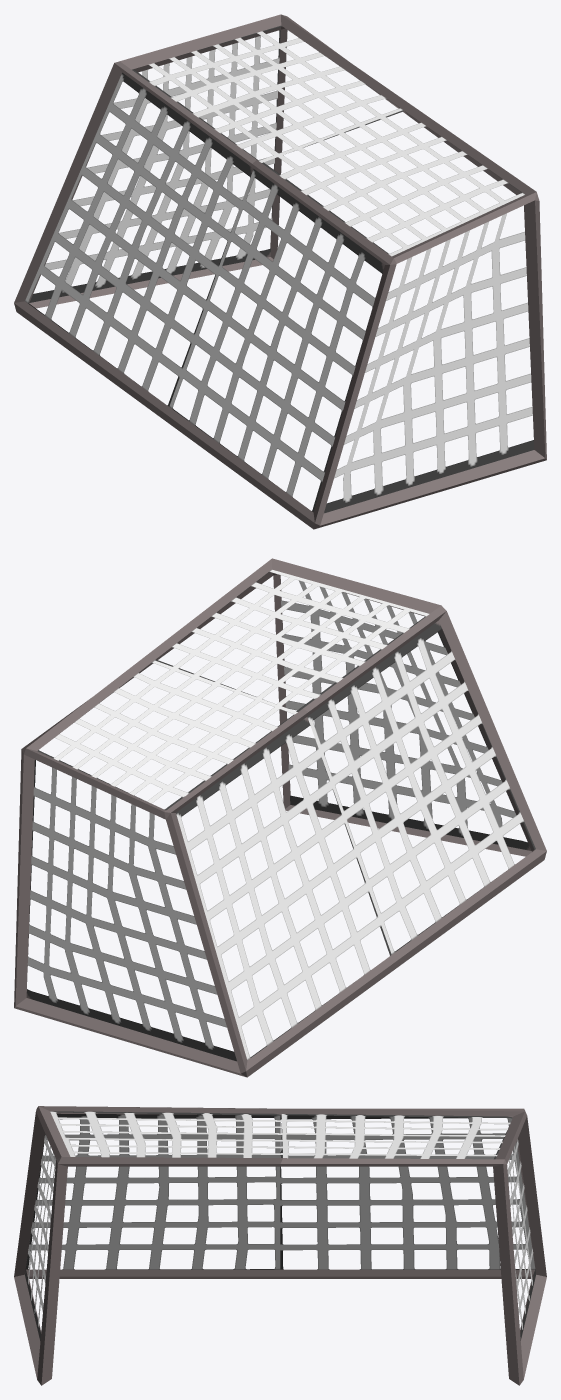
Rendered from goal.obj.
3 renders of one model, top to bottom at view 1: azimuth 30°, elevation 25°; view 2: azimuth 150°, elevation 25°; view 3: azimuth 270°, elevation 25°, orthographic. The views are drawn at different scales.
Visible parts, largest first — view 1: Cube; view 2: Cube; view 3: Cube.
Boxes of the visible parts, x1,y1,x2,y2 form: Cube: (14, 14, 546, 529); Cube: (14, 558, 546, 1077); Cube: (14, 1106, 546, 1385).
Size of the model in its own units: 2.18 by 2.17 by 4.58.
